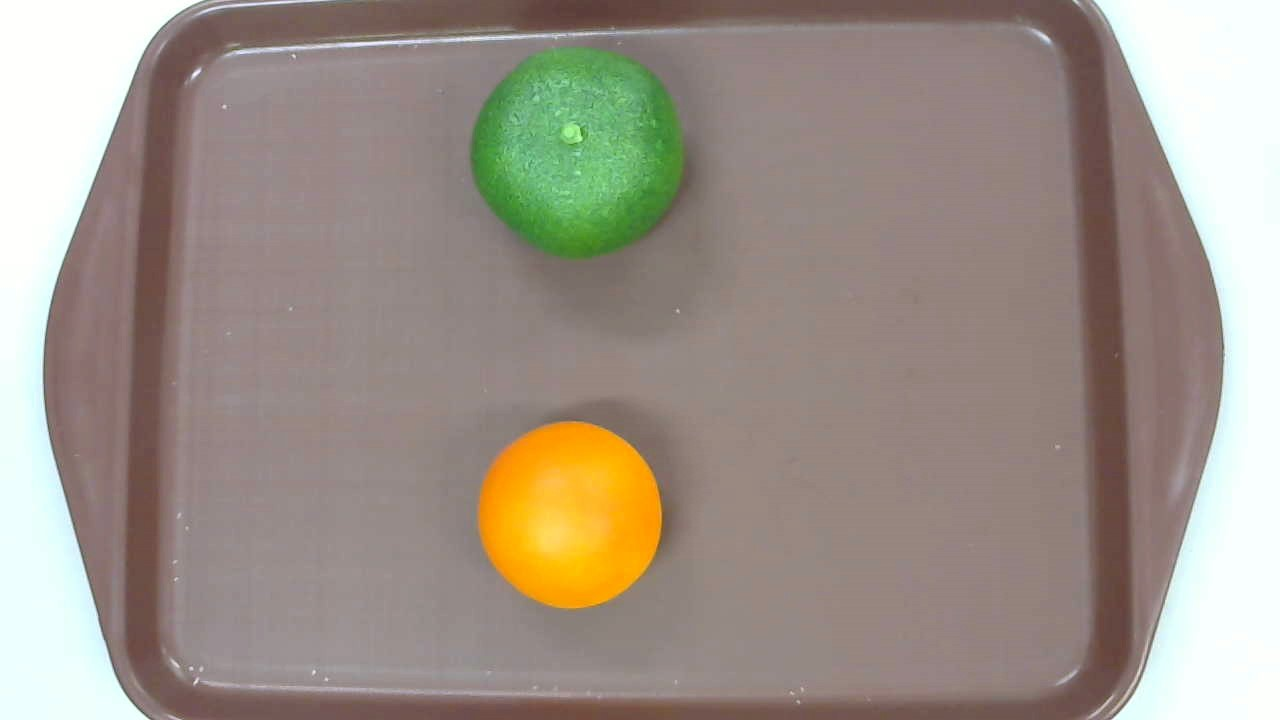bun: (477, 420, 663, 609)
green orange: (471, 47, 685, 257)
